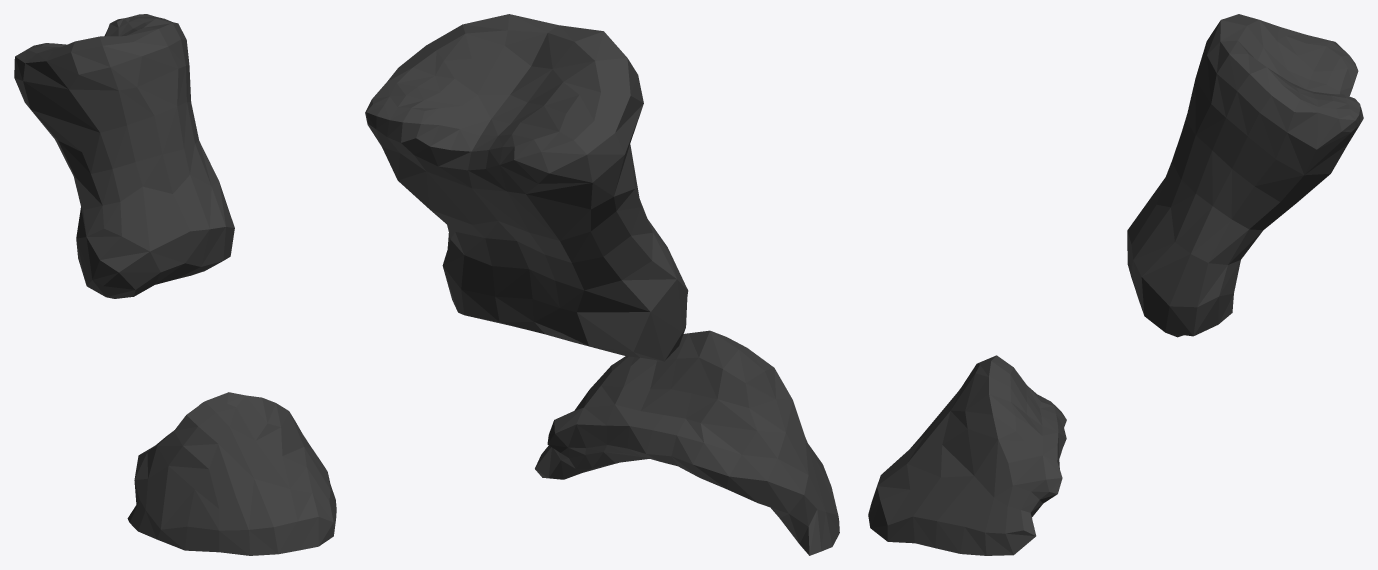
The model's file is LHL_P1.glb.
3 renders of one model, left to right at view 1: azimuth 30°, elevation 25°; view 2: azimuth 150°, elevation 25°; view 3: azimuth 270°, elevation 25°, orthographic. The views are drawn at different scales.
Visible parts, largest first — view 1: LHL_P1; view 2: LHL_P1; view 3: LHL_P1.
Part boxes in pixels (x1,y1,x2,y2): LHL_P1: [14, 14, 336, 555]; LHL_P1: [365, 14, 839, 555]; LHL_P1: [868, 14, 1363, 555].
Bounding box in the file's own units: 13.53 × 27.7 × 26.32.
Materials: 1 (1 with a texture image).
